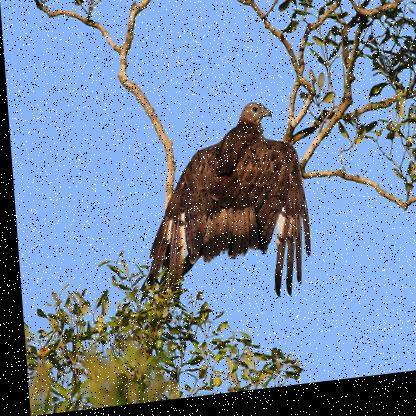Burung: (130, 104, 306, 319)
